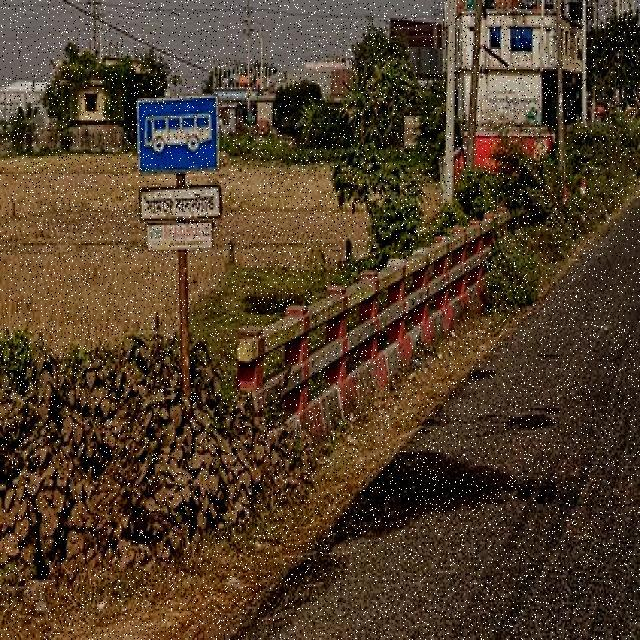Ahead-the-bus-station: (130, 97, 225, 260)
